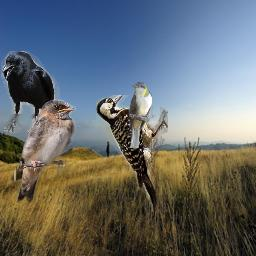Crow: (1, 51, 60, 135)
Cuckoo: (128, 82, 152, 148)
Swallow: (10, 99, 76, 203)
Woodpecker: (96, 95, 168, 216)
